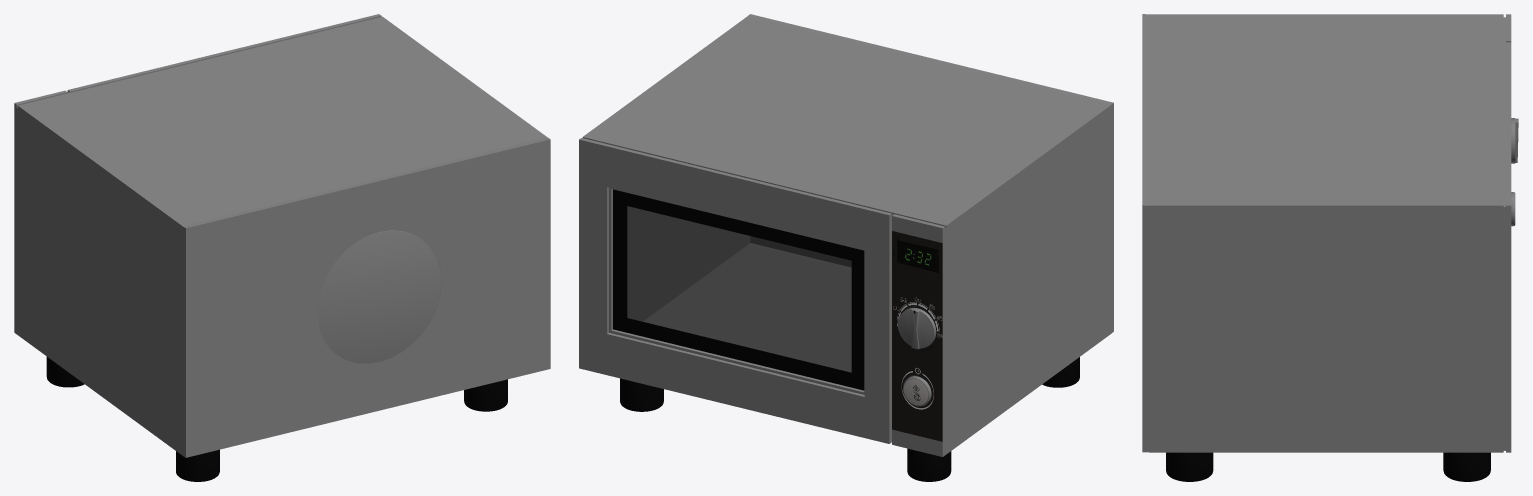
Rendered from Mikrowelle.fbx.
The picture shows the model from 3 angles, left to right: view 1: azimuth 30°, elevation 25°; view 2: azimuth 150°, elevation 25°; view 3: azimuth 270°, elevation 25°; orthographic projection. The views are drawn at different scales.
Parts seen in each view (by area): view 1: Obj_Mikrowelle; view 2: Obj_Mikrowelle; view 3: Obj_Mikrowelle.
Part boxes in pixels (<box>): Obj_Mikrowelle: <box>14,14,550,481</box>; Obj_Mikrowelle: <box>579,14,1113,481</box>; Obj_Mikrowelle: <box>1142,14,1518,481</box>.
Bounding box in the file's own units: 0.4996 × 0.3527 × 0.4154.
Materials: 5 (1 with a texture image).
